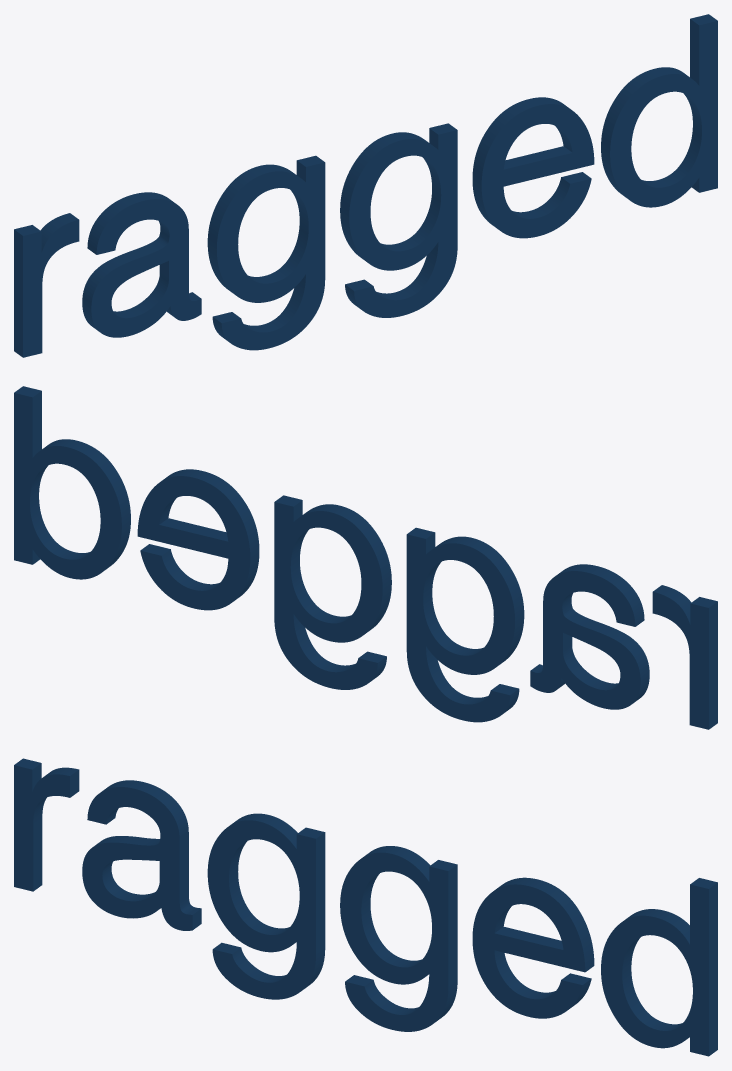
Rendered from ragged.gltf.
3 views of the same model, one above another, from view 1: azimuth 30°, elevation 25°; view 2: azimuth 150°, elevation 25°; view 3: azimuth 330°, elevation 25° (orthographic).
Bounding box in the file's own units: 4.4 × 1.32 × 0.1.
